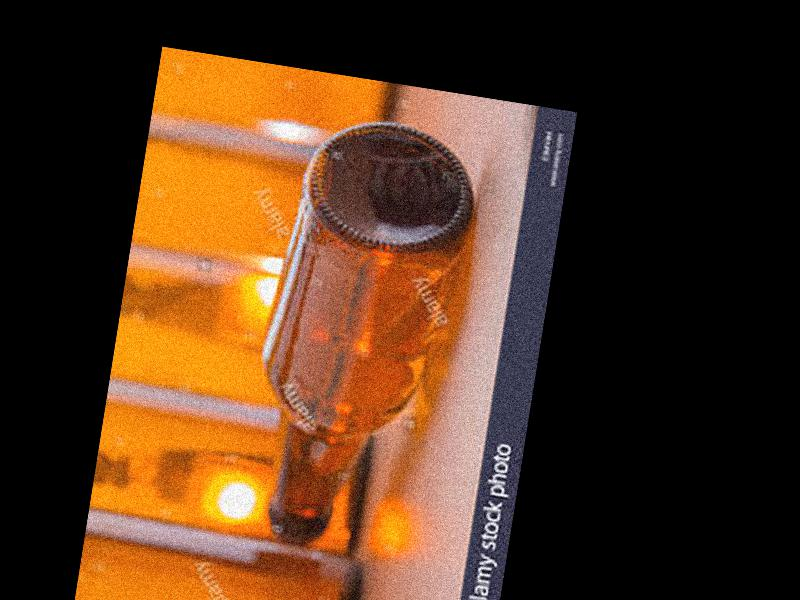Beer: (232, 106, 493, 557)
